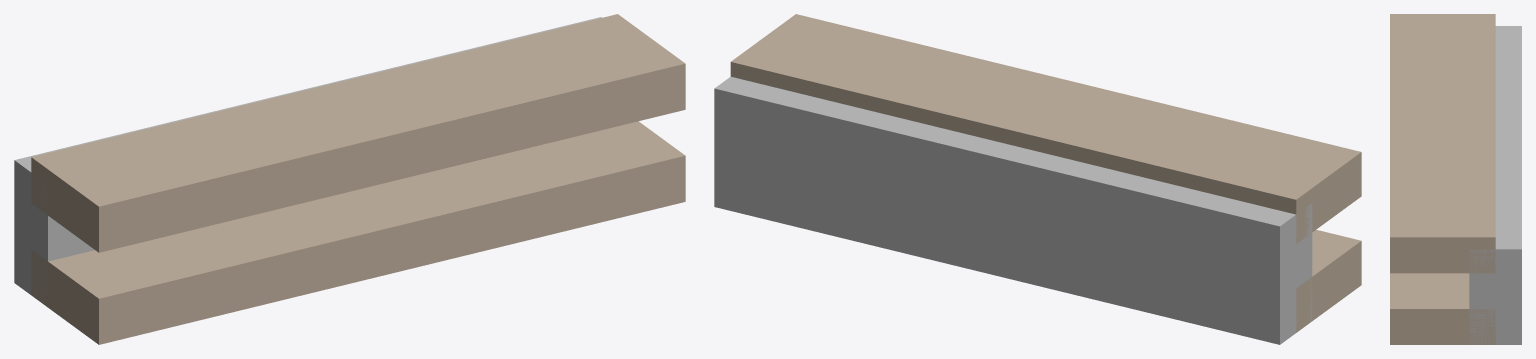
Rendered from retaining_edge.glb.
3 renders of one model, left to right at view 1: azimuth 30°, elevation 25°; view 2: azimuth 150°, elevation 25°; view 3: azimuth 270°, elevation 25°, orthographic. The views are drawn at different scales.
Visible parts, largest first — view 1: terrace2, terrace1, wall; view 2: wall, terrace2, terrace1; view 3: terrace2, wall, terrace1.
Part boxes in pixels (x1=…): terrace2: x1=31, y1=14, x2=685, y2=252; terrace1: x1=31, y1=121, x2=685, y2=344; wall: x1=14, y1=17, x2=601, y2=302; wall: x1=714, y1=76, x2=1312, y2=344; terrace2: x1=730, y1=14, x2=1361, y2=243; terrace1: x1=1296, y1=229, x2=1361, y2=332; terrace2: x1=1390, y1=14, x2=1495, y2=273; wall: x1=1469, y1=26, x2=1521, y2=344; terrace1: x1=1390, y1=273, x2=1495, y2=344.
Size of the model in its own units: 8 by 1.8 by 2.
